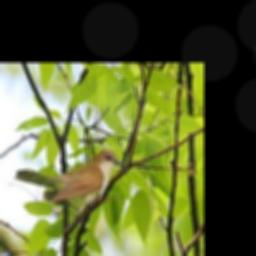Cuckoo: (15, 149, 125, 206)
